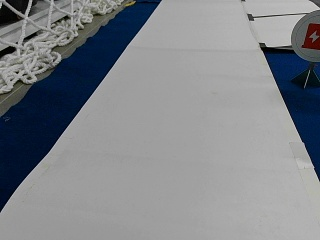battery: (292, 10, 319, 61)
